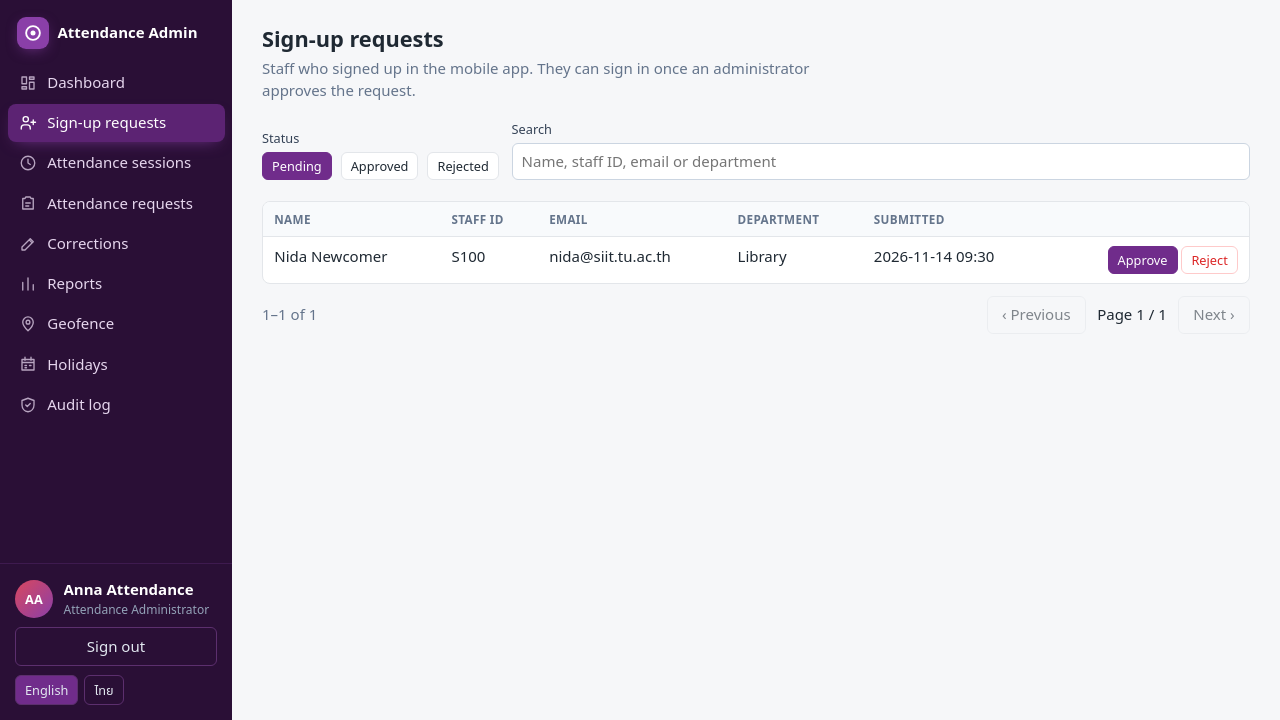
Scenario: Sign-up requests › requires a reason before rejecting, then sends it
Click the button with aria-label "Reject Nida Newcomer": click(1210, 260) [1181, 246, 1238, 274]
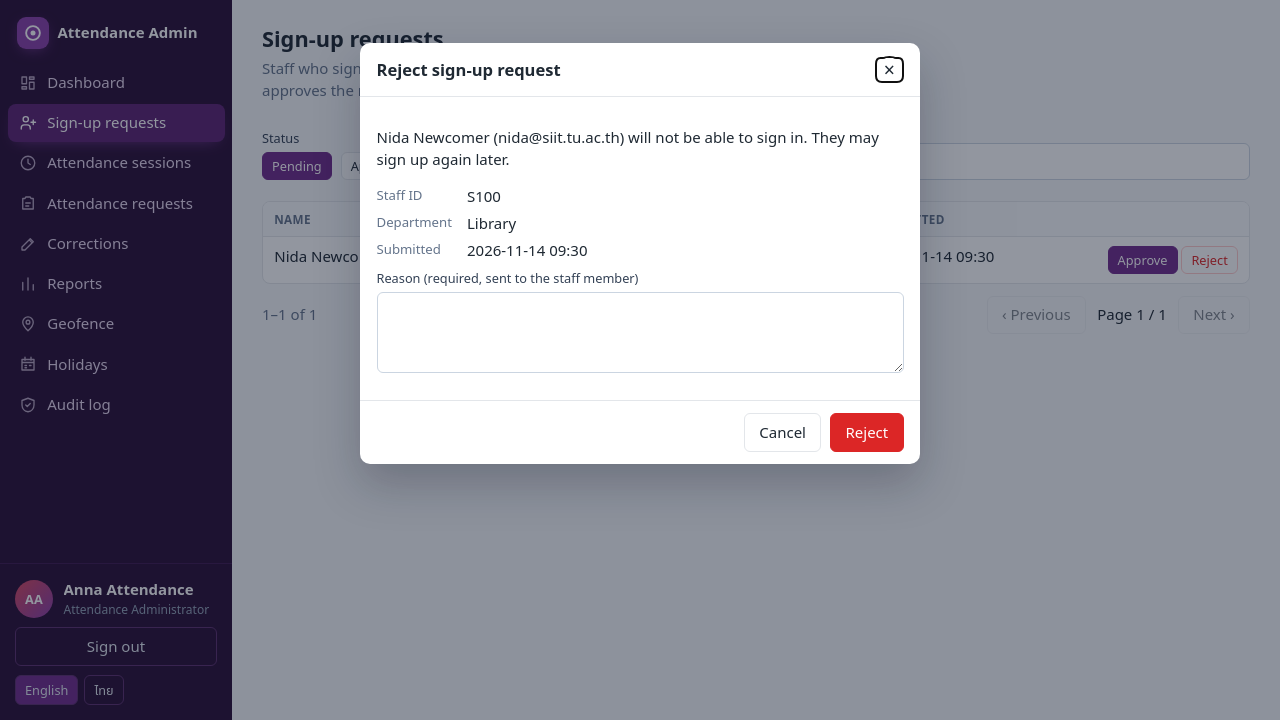
Click the button "Reject": click(867, 433) [830, 413, 904, 452]
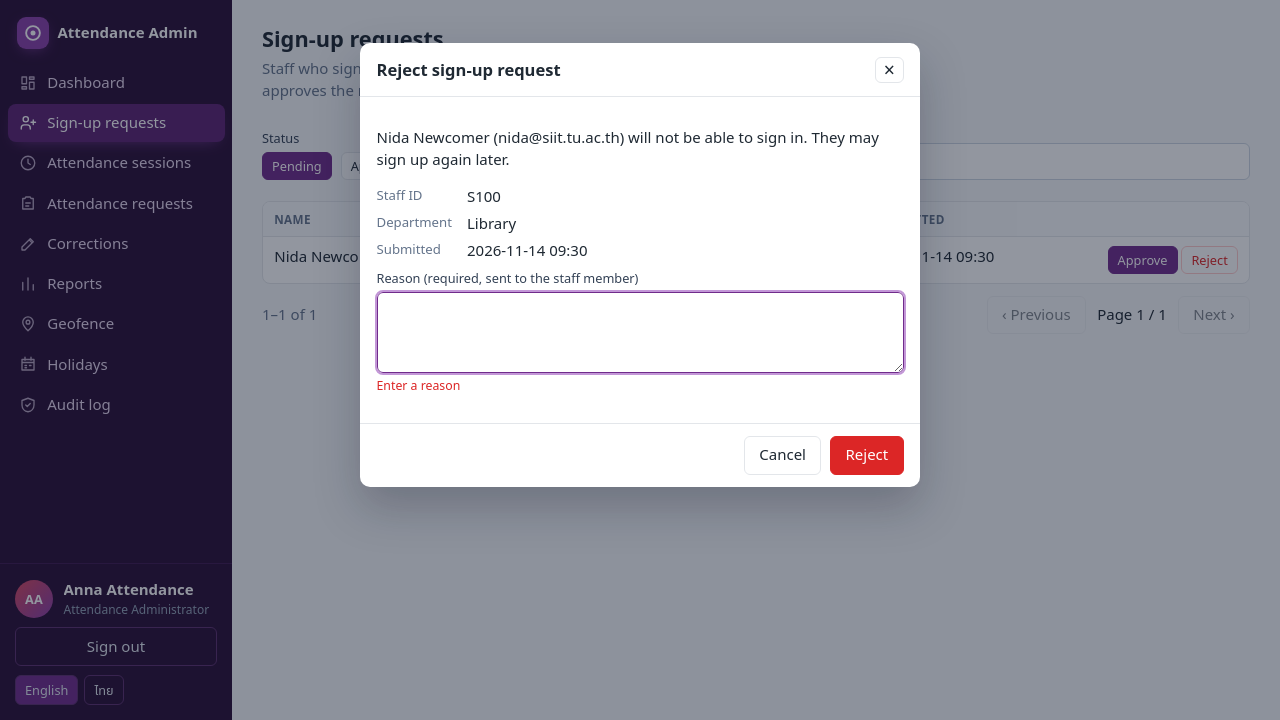
Now the text "Enter a reason" is shown, box [376, 377, 460, 394]
In the text box labelled "Reason (required, sent to the staff member) Enter a reason": (640, 332) [376, 292, 904, 373], type "  Unknown department  "
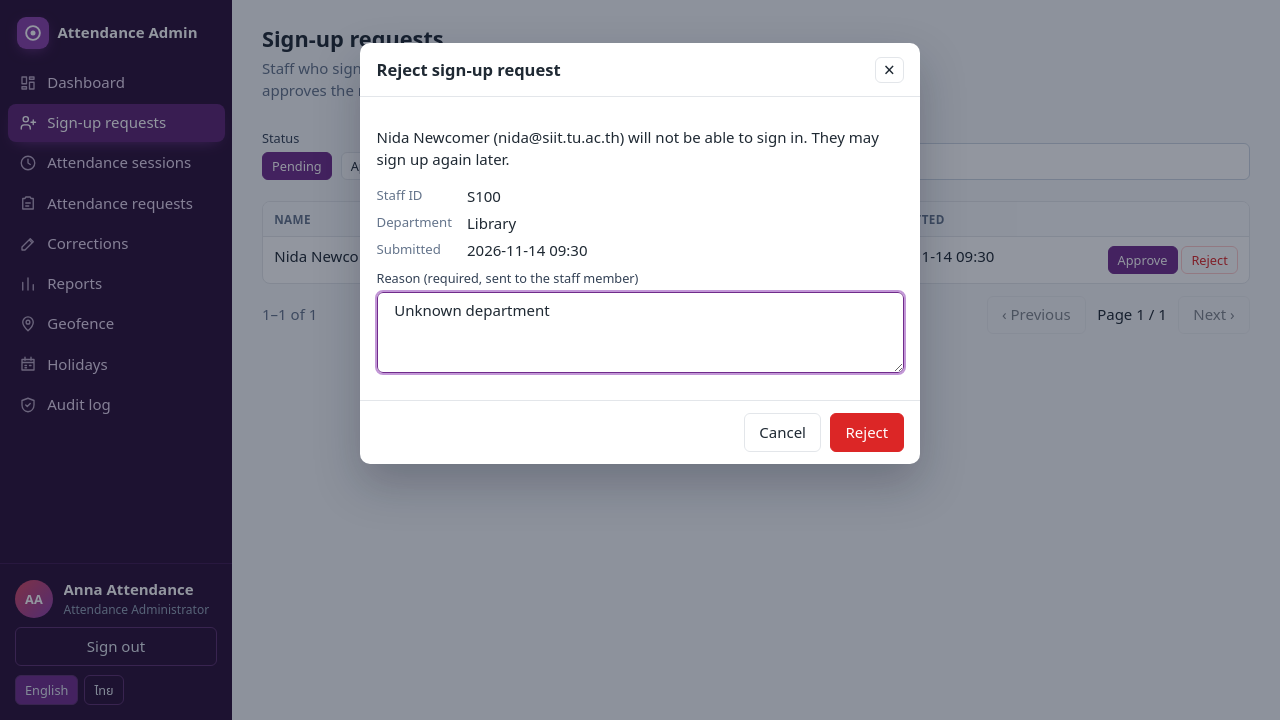
Click the button "Reject": click(867, 433) [830, 413, 904, 452]
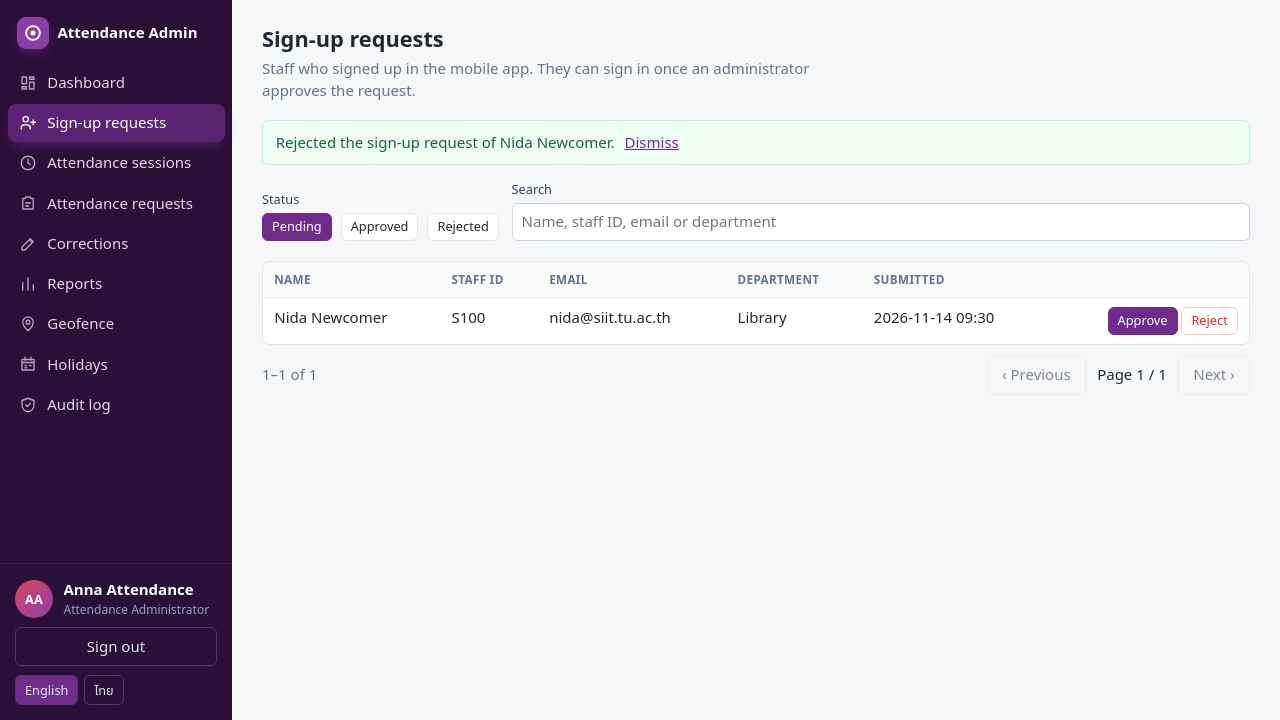
Now the text "Rejected the sign-up request of Nida Newcomer." is shown, box [276, 132, 615, 152]
